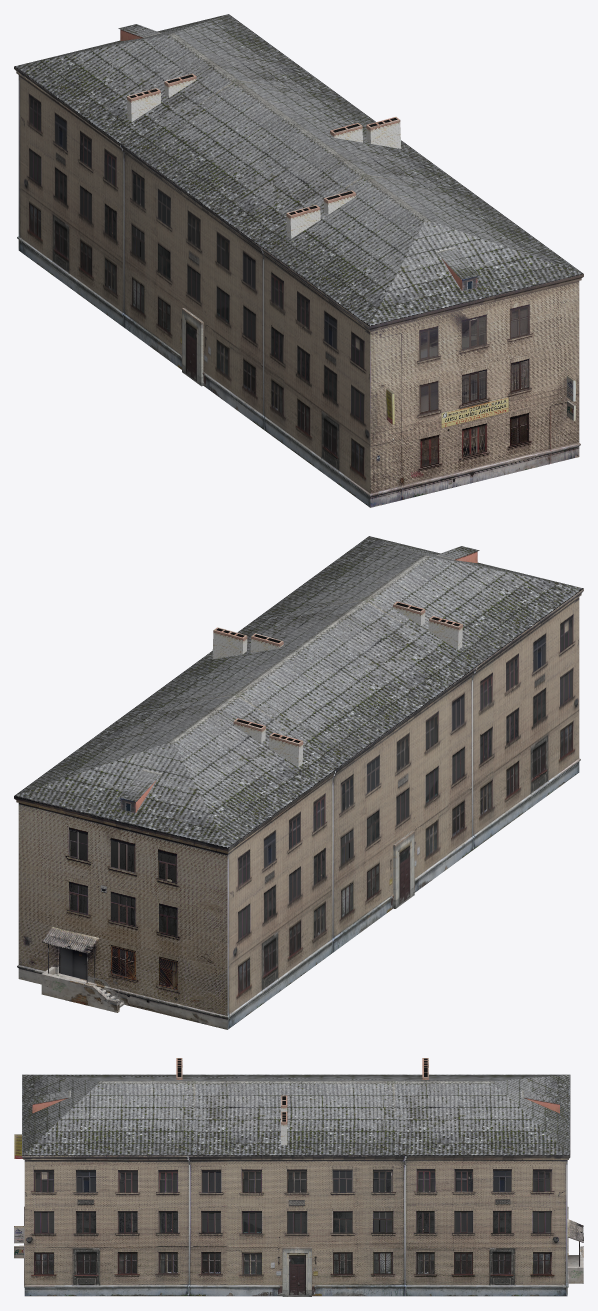
The model's file is 3floor.obj.
3 views of the same model, one above another, from view 1: azimuth 30°, elevation 25°; view 2: azimuth 150°, elevation 25°; view 3: azimuth 270°, elevation 25° (orthographic). The views are drawn at different scales.
Visible parts, largest first — view 1: _(Loose_Entity)006_3, _(Loose_Entity)006, _(Loose_Entity)006_1, _(Loose_Entity)006_7, stalinka1_extras; view 2: _(Loose_Entity)006_3, _(Loose_Entity)006, _(Loose_Entity)006_6, _(Loose_Entity)006_7, _(Loose_Entity)006_10; view 3: _(Loose_Entity)006, _(Loose_Entity)006_3, _(Loose_Entity)006_6, _(Loose_Entity)006_7, stalinka1_extras, _(Loose_Entity)006_5.
Part boxes in pixels (x1=…): _(Loose_Entity)006_3: x1=14, y1=14, x2=583, y2=326; _(Loose_Entity)006: x1=14, y1=66, x2=370, y2=507; _(Loose_Entity)006_1: x1=369, y1=274, x2=583, y2=507; _(Loose_Entity)006_7: x1=126, y1=73, x2=401, y2=238; stalinka1_extras: x1=386, y1=375, x2=575, y2=427; _(Loose_Entity)006_3: x1=14, y1=536, x2=583, y2=848; _(Loose_Entity)006: x1=227, y1=588, x2=583, y2=1029; _(Loose_Entity)006_6: x1=14, y1=796, x2=228, y2=1029; _(Loose_Entity)006_7: x1=212, y1=601, x2=462, y2=766; _(Loose_Entity)006_10: x1=42, y1=926, x2=98, y2=953; _(Loose_Entity)006: x1=22, y1=1155, x2=570, y2=1296; _(Loose_Entity)006_3: x1=22, y1=1074, x2=570, y2=1155; _(Loose_Entity)006_6: x1=567, y1=1207, x2=583, y2=1285; _(Loose_Entity)006_7: x1=176, y1=1058, x2=428, y2=1145; stalinka1_extras: x1=14, y1=1134, x2=24, y2=1258; _(Loose_Entity)006_5: x1=32, y1=1098, x2=559, y2=1113.
Bounding box in the file's own units: 11.59 × 11.72 × 34.5.
Materials: 11 (8 with a texture image).
